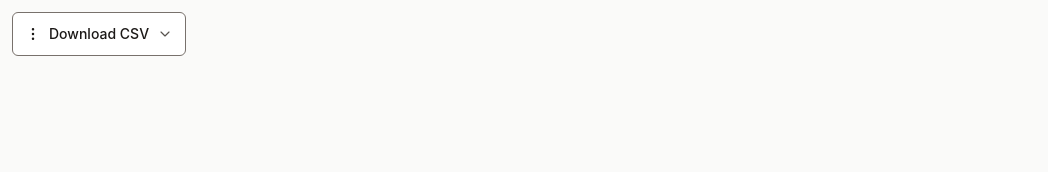
Test: Menu › can show its label on the button, which then names it without a tooltip
The width and height of the screenshot is (1048, 172).
Click the button "Download CSV": x=99, y=34 x1=12 y1=12 x2=186 y2=56
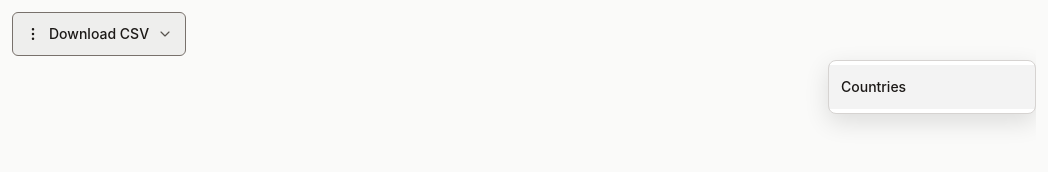
Expected: the menu named "Download CSV" is shown, x1=828 y1=60 x2=1036 y2=114
